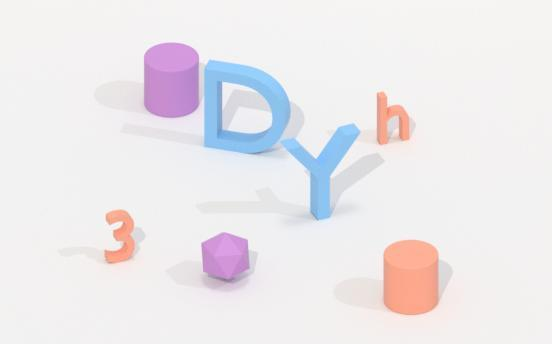chu_khoi: (204, 60, 290, 152), (282, 124, 359, 219), (377, 92, 409, 144)
da_giac: (202, 232, 249, 279)
so_khoi: (104, 210, 134, 262)
tru: (144, 42, 199, 117), (383, 240, 438, 314)
